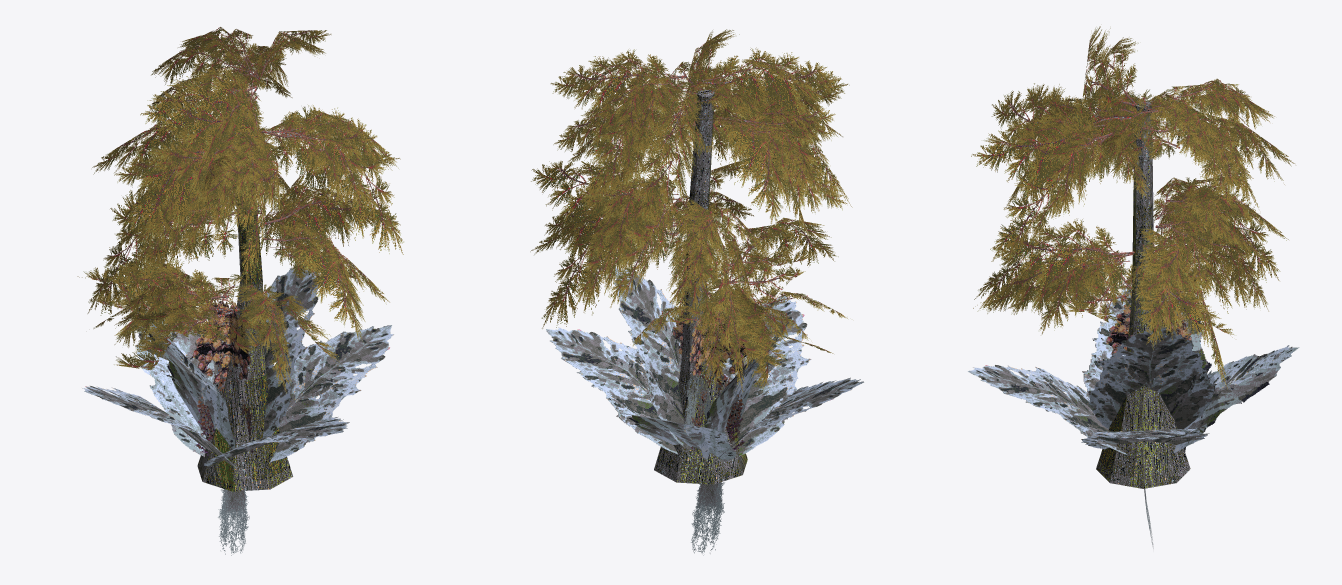
File: gardentrees_setpiece1-silentspace.glb
The picture shows the model from 3 angles, left to right: view 1: azimuth 30°, elevation 25°; view 2: azimuth 150°, elevation 25°; view 3: azimuth 270°, elevation 25°; orthographic projection. The views are drawn at different scales.
Visible parts, largest first — view 1: cypres_chauve_cypreschauve_needles_D_cypreschauve_needles_D_, Plane.027, Plane.017; view 2: cypres_chauve_cypreschauve_needles_D_cypreschauve_needles_D_, Plane.027, Plane.017, Plane.037; view 3: cypres_chauve_cypreschauve_needles_D_cypreschauve_needles_D_, Plane.027.
Boxes of the visible parts, <box> form: cypres_chauve_cypreschauve_needles_D_cypreschauve_needles_D_: <box>77,27,403,491</box>; Plane.027: <box>82,262,393,469</box>; Plane.017: <box>218,489,249,555</box>; cypres_chauve_cypreschauve_needles_D_cypreschauve_needles_D_: <box>530,29,852,484</box>; Plane.027: <box>546,267,863,469</box>; Plane.017: <box>691,482,724,555</box>; Plane.037: <box>684,373,714,458</box>; cypres_chauve_cypreschauve_needles_D_cypreschauve_needles_D_: <box>971,26,1294,488</box>; Plane.027: <box>968,284,1299,454</box>.
Bounding box in the file's own units: 8.29 × 12.3 × 8.09.
8 materials, 8 textured.
